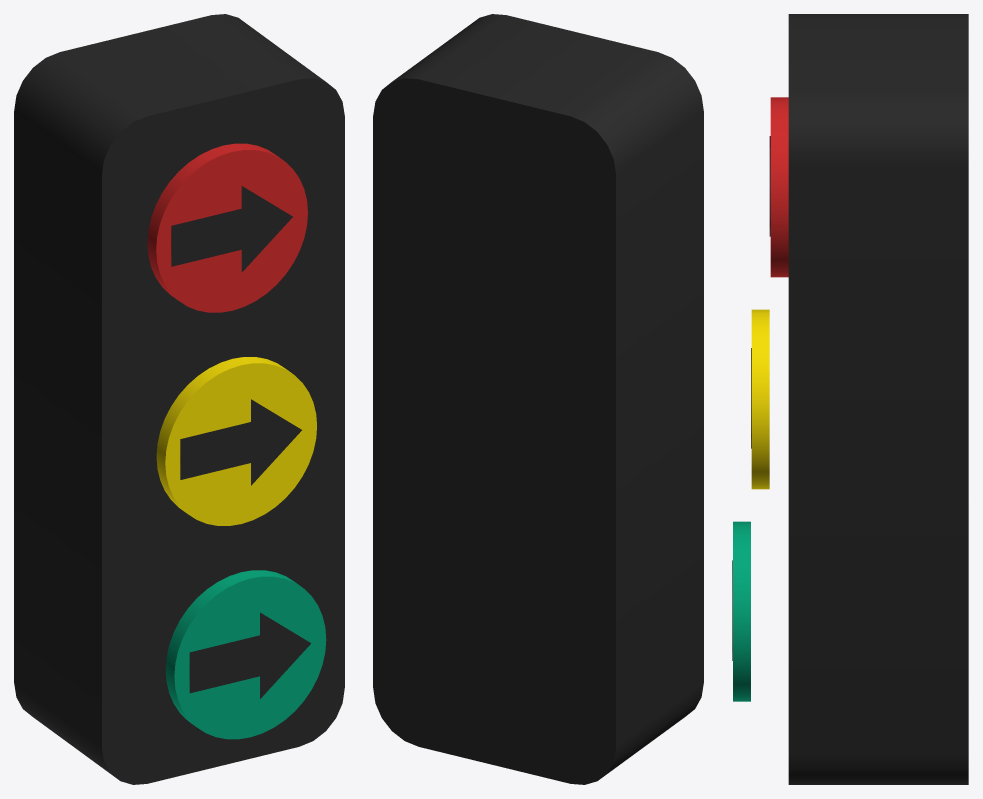
3 renders of one model, left to right at view 1: azimuth 30°, elevation 25°; view 2: azimuth 150°, elevation 25°; view 3: azimuth 270°, elevation 25°, orthographic. The views are drawn at different scales.
Visible parts, largest first — view 1: R16td_r00, R16td_d250, R16td_d302, R16td_d276, R16td_s275, R16td_s327, R16td_s301; view 2: R16td_r00; view 3: R16td_r00, R16td_d250, R16td_d276, R16td_d302.
Part boxes in pixels (x1,y1,x2,y2): R16td_r00: [14, 14, 344, 784]; R16td_d250: [147, 143, 307, 312]; R16td_d302: [165, 570, 326, 739]; R16td_d276: [156, 357, 316, 525]; R16td_s275: [171, 186, 292, 271]; R16td_s327: [189, 612, 310, 698]; R16td_s301: [180, 399, 301, 485]; R16td_r00: [373, 14, 703, 784]; R16td_r00: [788, 14, 968, 784]; R16td_d250: [770, 97, 788, 277]; R16td_d276: [751, 309, 769, 489]; R16td_d302: [733, 521, 750, 701].
Size of the model in its own units: 0.16 by 0.42 by 0.1312.
